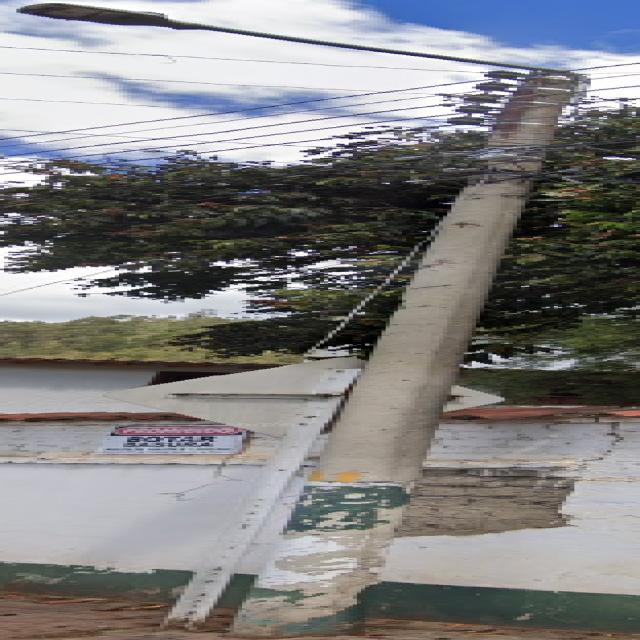Poste: (16, 3, 578, 637)
